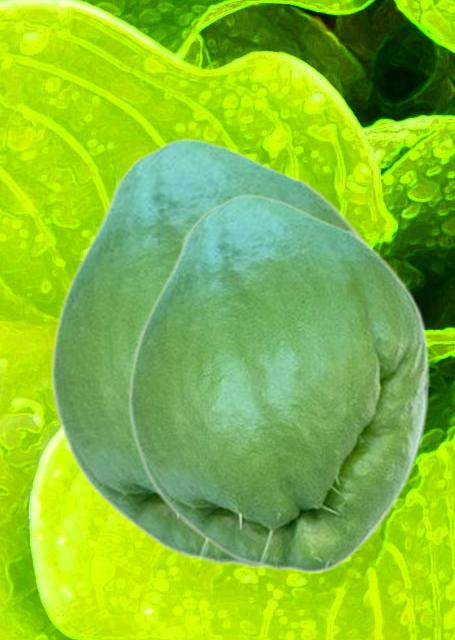sayote: (49, 138, 374, 569), (127, 194, 429, 574)
